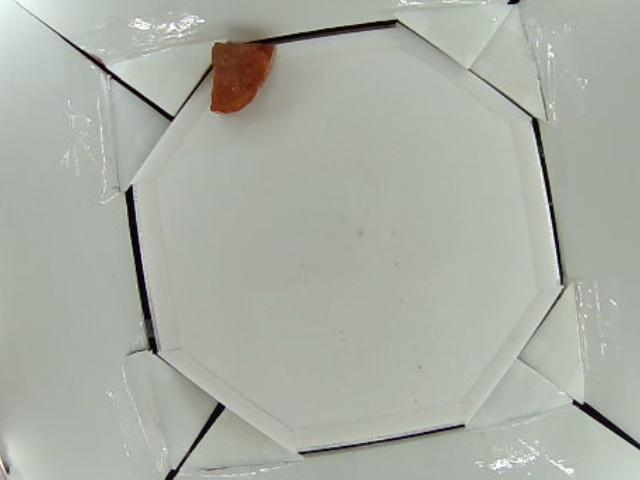Brisk: (206, 40, 277, 113)
